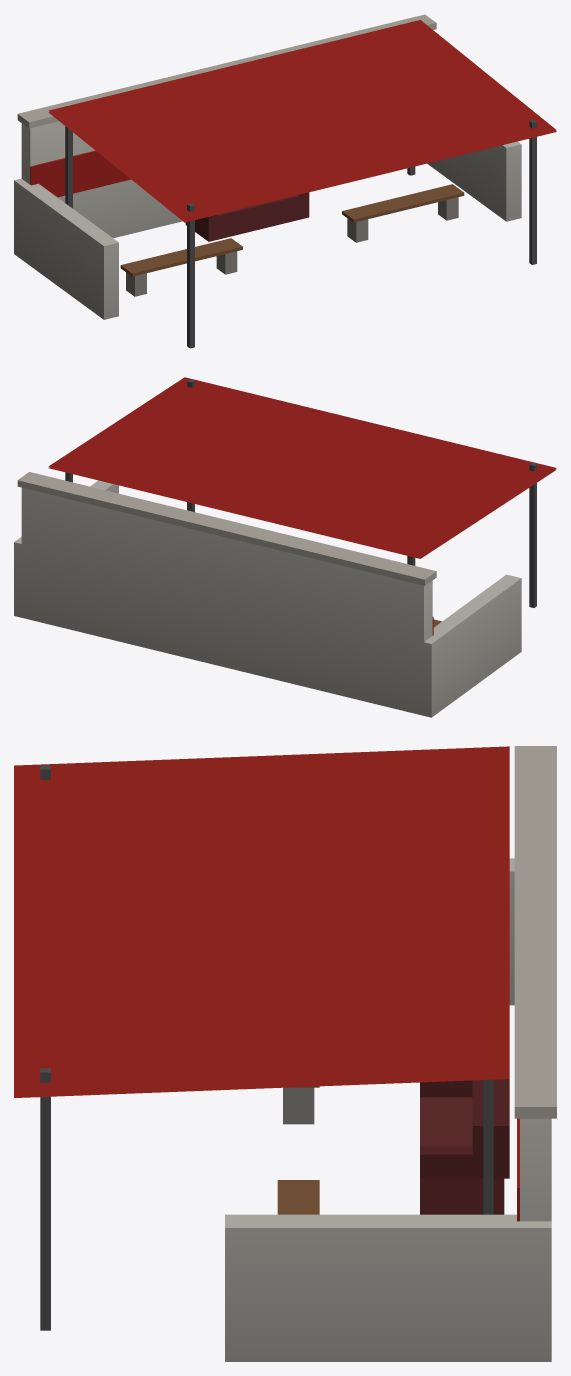
Rendered from ub_base_red_lod1.glb.
3 views of the same model, one above another, from view 1: azimuth 30°, elevation 25°; view 2: azimuth 150°, elevation 25°; view 3: azimuth 270°, elevation 25° (orthographic). The views are drawn at different scales.
Visible parts, largest first — view 1: ub_base_red_lod1; view 2: ub_base_red_lod1; view 3: ub_base_red_lod1.
Boxes of the visible parts, <box> form: ub_base_red_lod1: <box>14,14,556,348</box>; ub_base_red_lod1: <box>14,377,556,717</box>; ub_base_red_lod1: <box>14,746,556,1361</box>.
Size of the model in its own units: 8.3 by 2.78 by 5.15.
